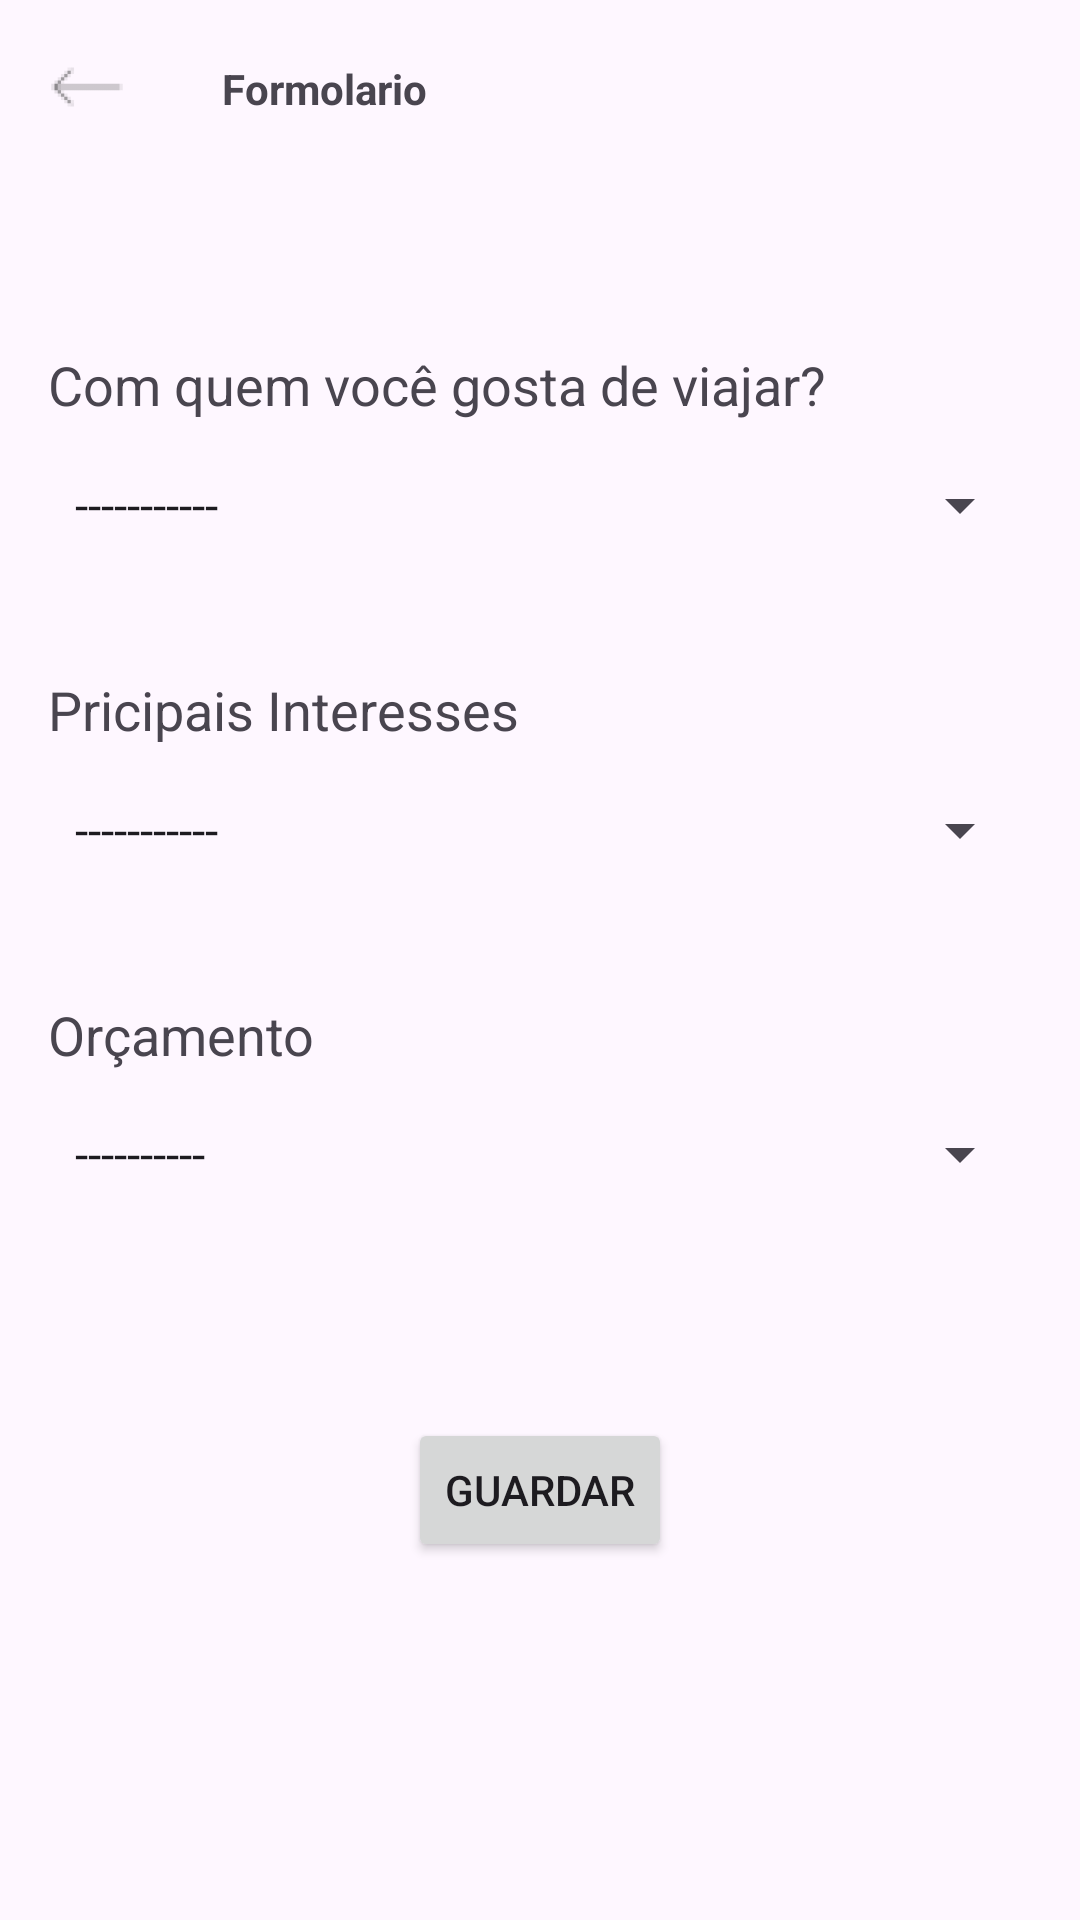

Screen size 1080px x 1920px. Icon name, then its box in pixels as BBox(x1, y1, x2, y2):
voltar: BBox(54, 70, 120, 104)
